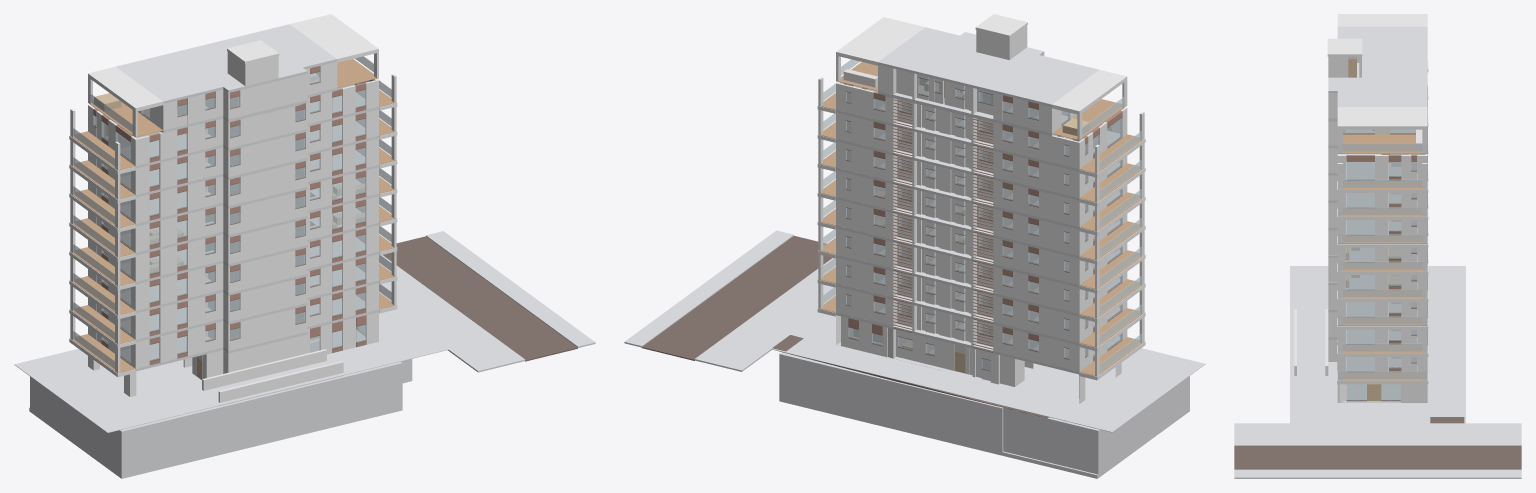
Rendered from hafetz44_model.glb.
3 renders of one model, left to right at view 1: azimuth 30°, elevation 25°; view 2: azimuth 150°, elevation 25°; view 3: azimuth 270°, elevation 25°, orthographic. The views are drawn at different scales.
Visible parts, largest first — view 1: HafetzHaim44_BIM; view 2: HafetzHaim44_BIM; view 3: HafetzHaim44_BIM.
Boxes of the visible parts, <box> form: HafetzHaim44_BIM: <box>14,14,595,478</box>; HafetzHaim44_BIM: <box>624,14,1205,478</box>; HafetzHaim44_BIM: <box>1234,14,1521,478</box>.
Bounding box in the file's own units: 52.2 × 40.05 × 30.
